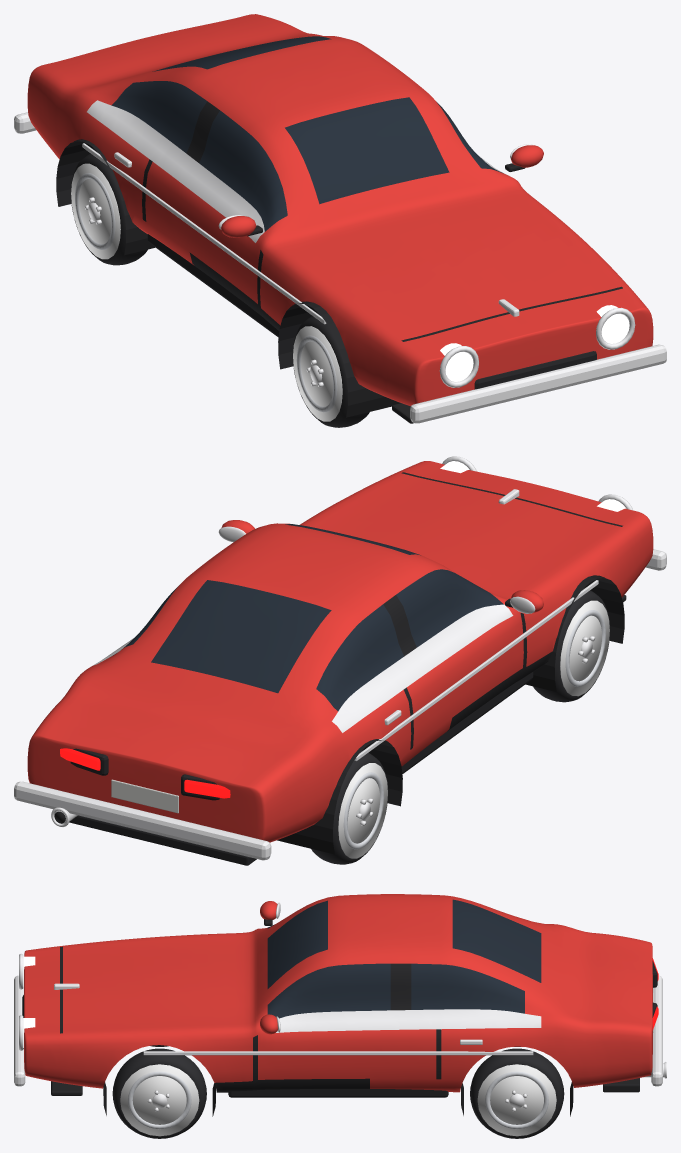
File: vira_mid.glb
The picture shows the model from 3 angles, top to bottom: view 1: azimuth 30°, elevation 25°; view 2: azimuth 150°, elevation 25°; view 3: azimuth 270°, elevation 25°; orthographic projection. The views are drawn at different scales.
Parts seen in each view (by area): view 1: body, wheel_fr, wheel_rr; view 2: body, wheel_rr, wheel_fr; view 3: body, wheel_rl, wheel_fl.
Boxes of the visible parts, x1,y1,x2,y2 form: body: (14, 14, 666, 423); wheel_fr: (292, 313, 369, 427); wheel_rr: (71, 151, 147, 265); body: (14, 456, 666, 865); wheel_rr: (311, 750, 388, 864); wheel_fr: (533, 588, 609, 702); body: (14, 894, 666, 1116); wheel_rl: (470, 1048, 564, 1138); wheel_fl: (112, 1048, 206, 1138).
Size of the model in its own units: 2.09 by 1.32 by 4.57.
